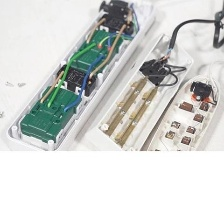three_eye_plug: (2, 0, 157, 156), (82, 24, 196, 155), (136, 72, 222, 167)
